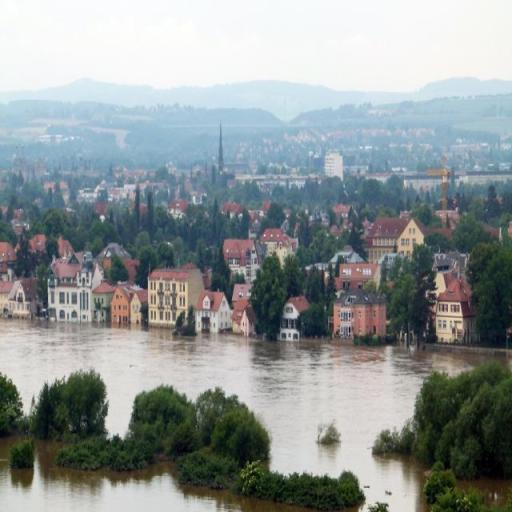flood: (0, 321, 512, 512), (0, 438, 314, 512)
house: (429, 258, 472, 348), (148, 265, 199, 339), (46, 254, 96, 322), (223, 234, 260, 324), (332, 288, 390, 344), (367, 212, 420, 260), (106, 278, 140, 332), (194, 288, 228, 338), (278, 293, 308, 342), (4, 276, 38, 319), (336, 262, 382, 291)
